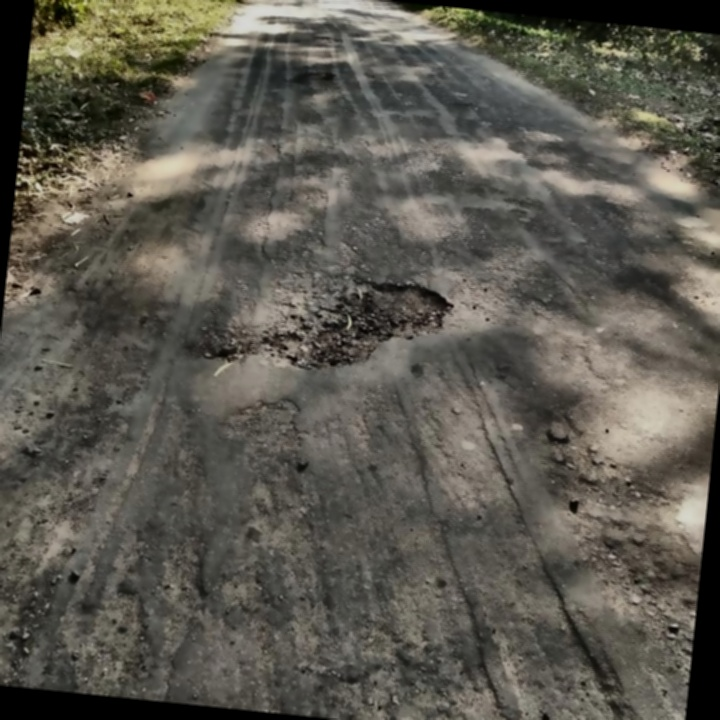pothole: (263, 265, 461, 384), (298, 64, 339, 85)
